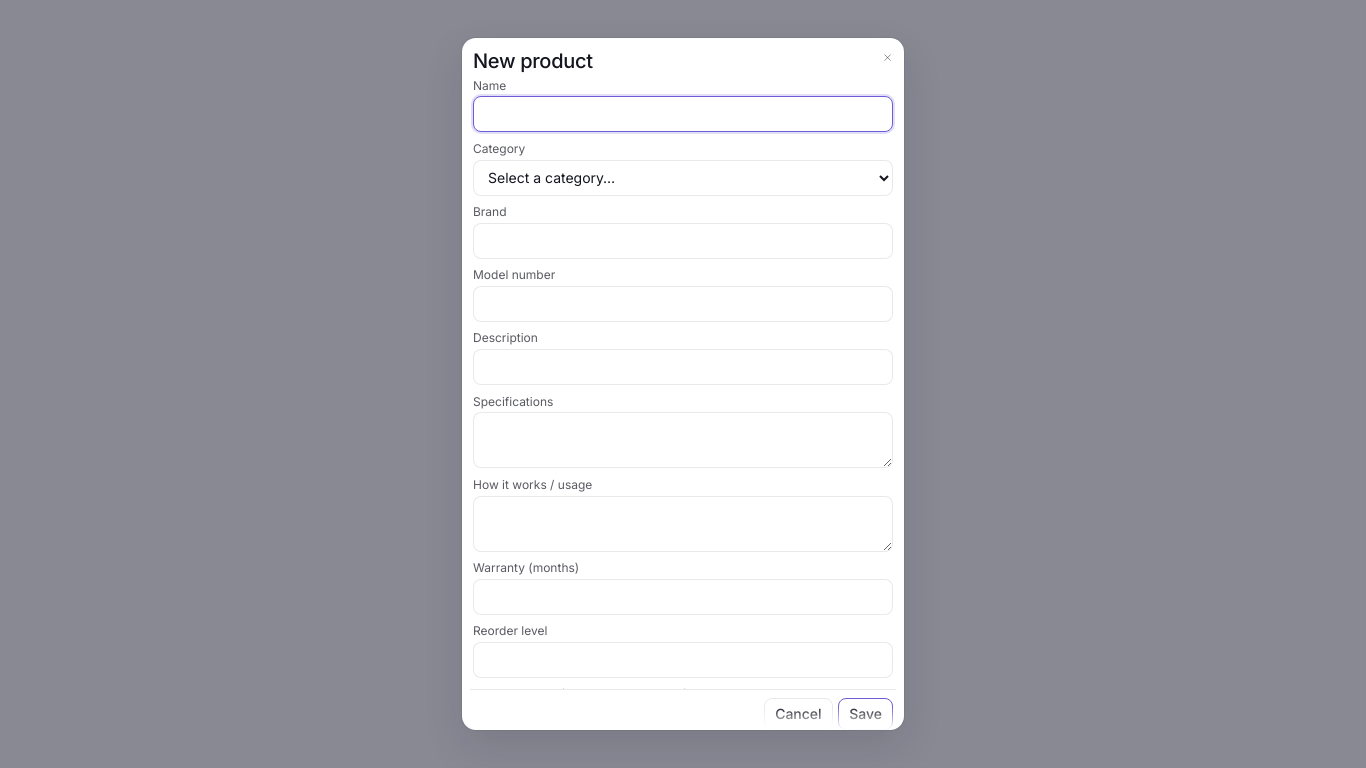
ProductFormDialog › cancels the inline category sub-form back to the normal select
The width and height of the screenshot is (1366, 768).
Select "+ Add new category…" in the dropdown labelled "Category" at (683, 178), box x1=473 y1=160 x2=893 y2=196
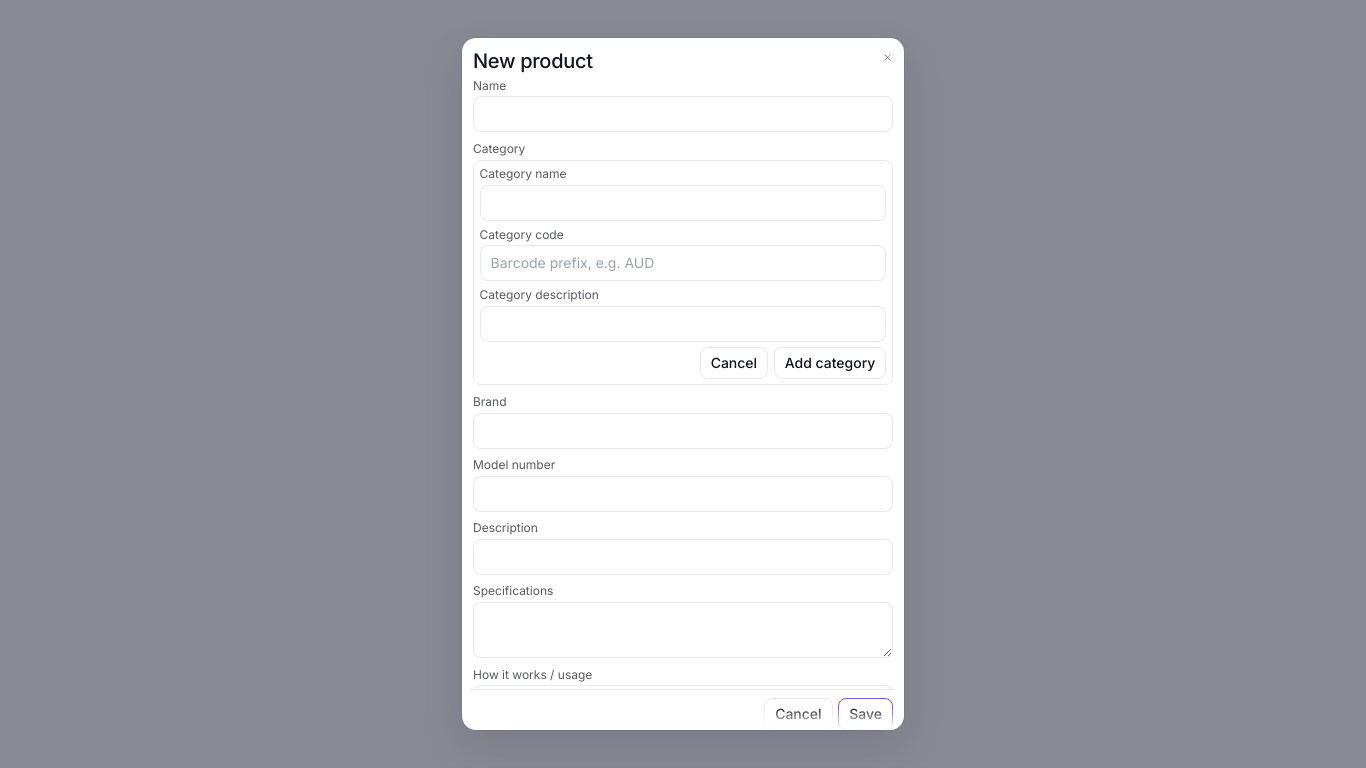
Click the button "Cancel" below "Category description" at (734, 363), box x1=700 y1=347 x2=768 y2=379
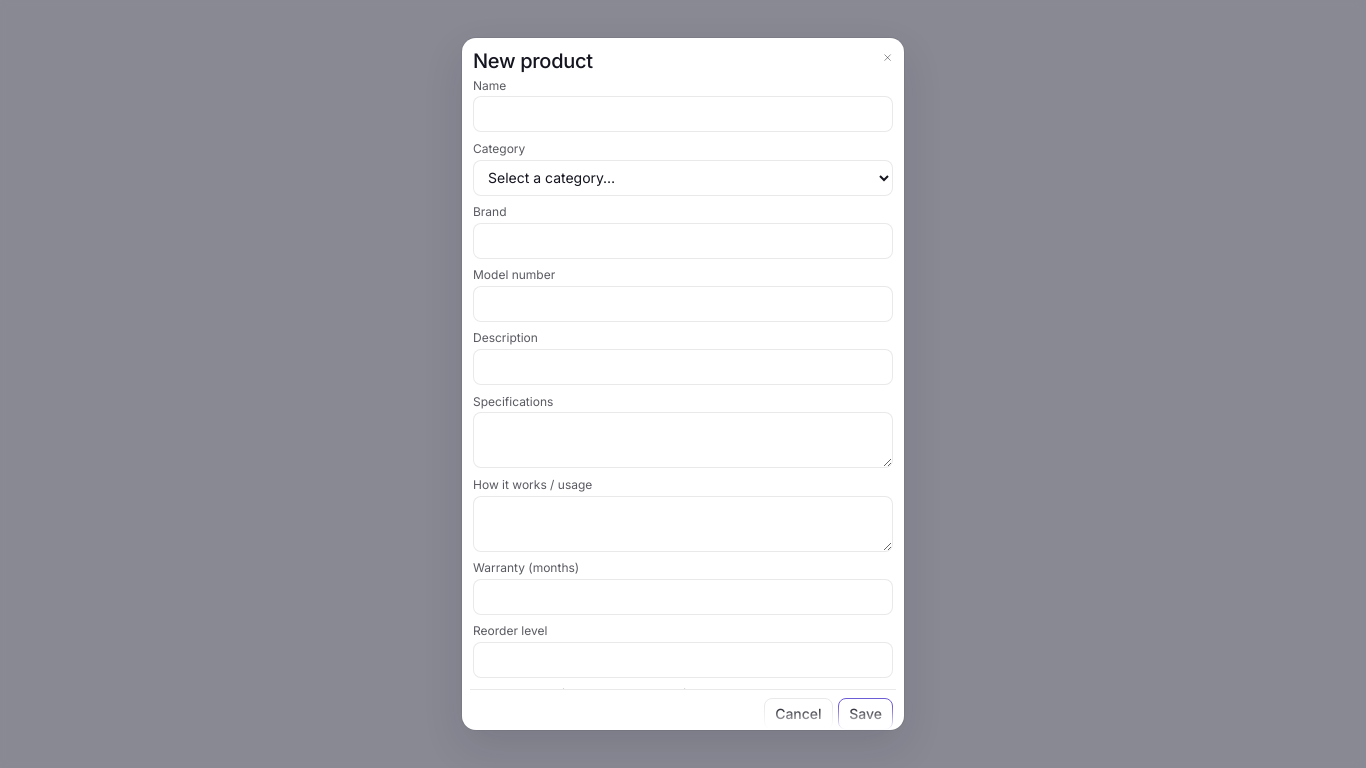
Result: the dropdown labelled "Category" is shown at x1=473 y1=160 x2=893 y2=196
Result: the label labelled "Category name" is gone
